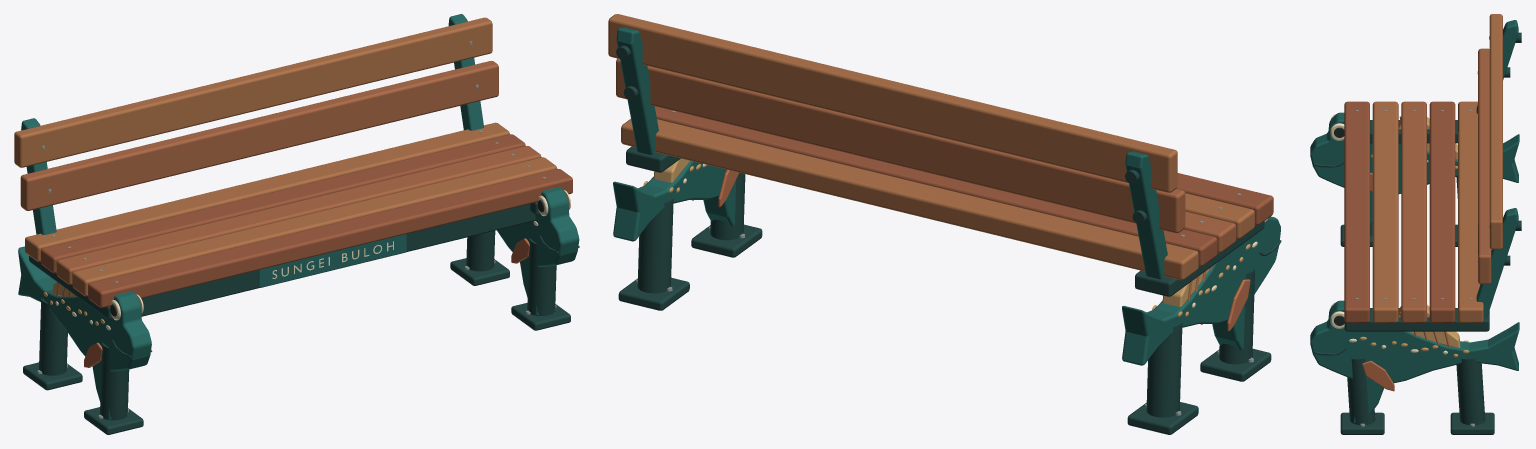
The picture shows the model from 3 angles, left to right: view 1: azimuth 30°, elevation 25°; view 2: azimuth 150°, elevation 25°; view 3: azimuth 270°, elevation 25°; orthographic projection. The views are drawn at different scales.
Parts seen in each view (by area): view 1: Seat, Backrest, Mudskipper castings, Feet, Bench frame, Trail plaque.001; view 2: Backrest, Seat, Mudskipper castings, Feet, Bench frame; view 3: Seat, Mudskipper castings, Backrest, Feet, Bench frame.
Boxes of the visible parts, bbox=[...] form: Seat: bbox=[25, 122, 572, 307]; Backrest: bbox=[14, 17, 498, 210]; Mudskipper castings: bbox=[18, 187, 579, 419]; Feet: bbox=[23, 230, 570, 434]; Bench frame: bbox=[21, 14, 540, 319]; Trail plaque.001: bbox=[258, 234, 406, 287]; Backrest: bbox=[608, 14, 1185, 233]; Seat: bbox=[621, 106, 1273, 280]; Mudskipper castings: bbox=[613, 158, 1281, 365]; Feet: bbox=[618, 172, 1271, 434]; Bench frame: bbox=[616, 27, 1264, 296]; Seat: bbox=[1344, 101, 1483, 322]; Mudskipper castings: bbox=[1310, 112, 1519, 423]; Backrest: bbox=[1478, 14, 1502, 284]; Feet: bbox=[1340, 176, 1494, 434]; Bench frame: bbox=[1344, 20, 1521, 331].
Size of the model in its own units: 1.63 by 0.7941 by 0.6993.
